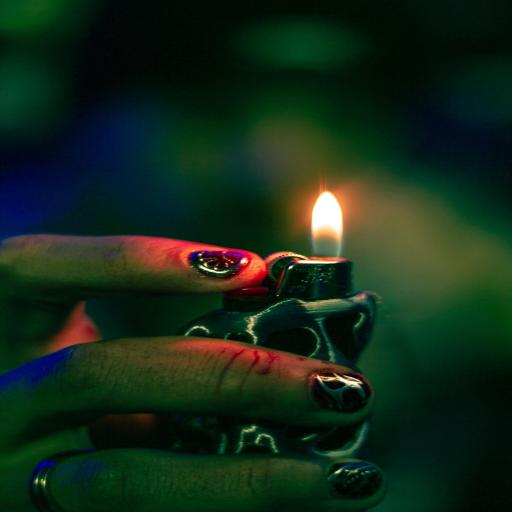lighter: (169, 199, 406, 470)
